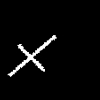single_crochet: (8, 35, 55, 76)
